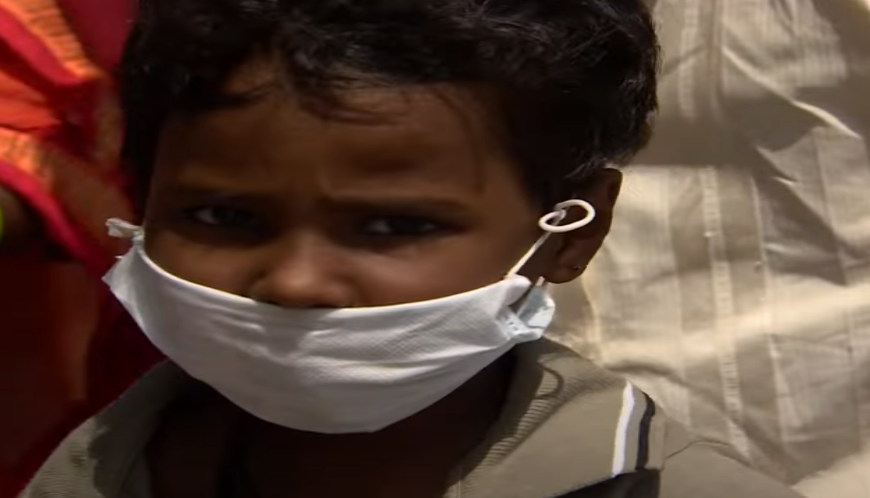mask_weared_incorrect: (99, 7, 611, 436)
